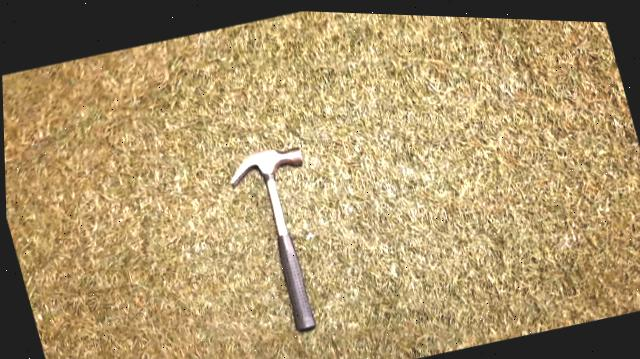hammer: (210, 125, 354, 348)
